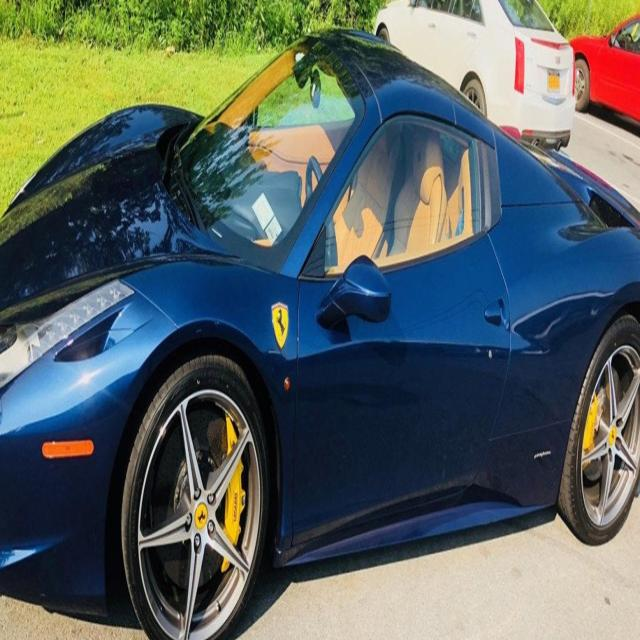blue: (1, 22, 640, 600)
